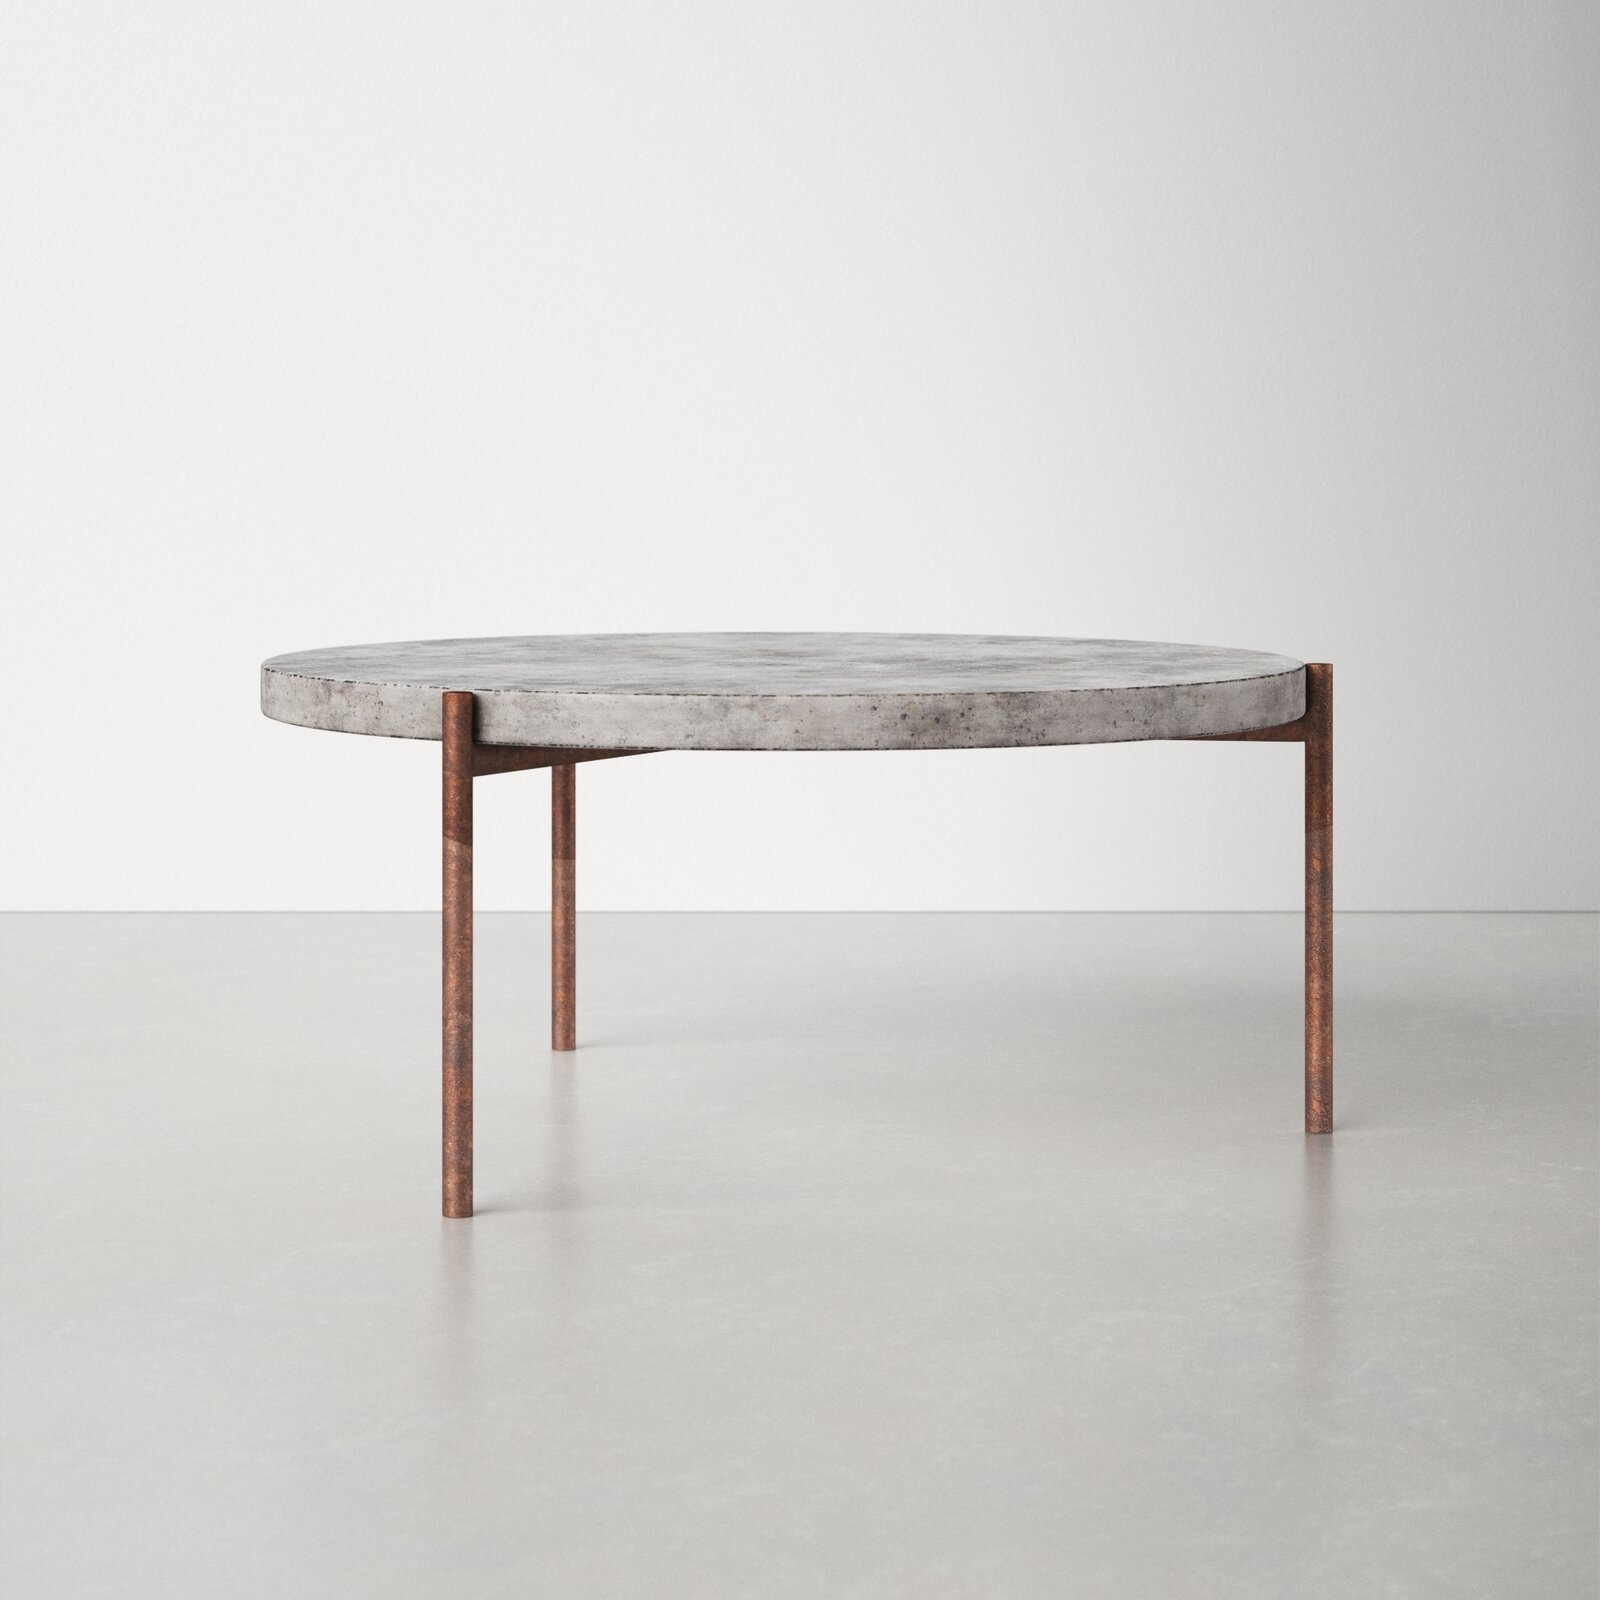obstacle: (262, 632, 1332, 1218)
